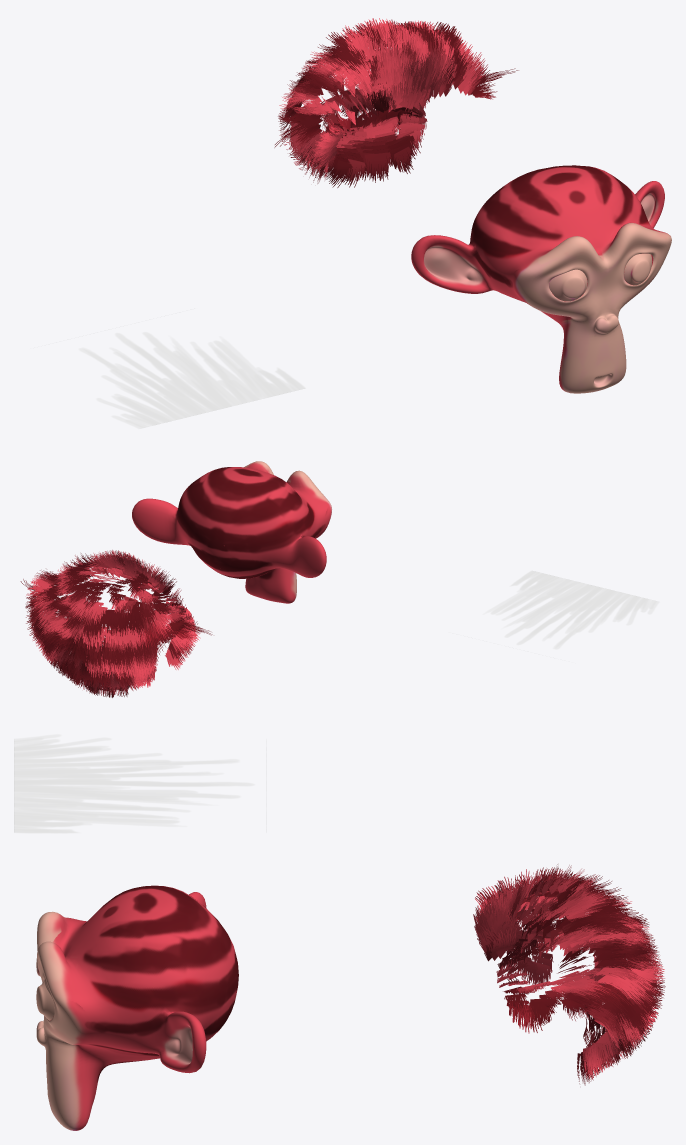
Rendered from hair_mesh_test.glb.
3 views of the same model, one above another, from view 1: azimuth 30°, elevation 25°; view 2: azimuth 150°, elevation 25°; view 3: azimuth 270°, elevation 25° (orthographic). The views are drawn at different scales.
Parts seen in each view (by area): view 1: Suzanne, Cube, Plane; view 2: Cube, Suzanne, Plane; view 3: Suzanne, Cube, Plane.
Boxes of the visible parts, bbox=[...] form: Suzanne: bbox=[411, 165, 671, 393]; Cube: bbox=[274, 18, 518, 187]; Plane: bbox=[78, 332, 305, 428]; Cube: bbox=[20, 550, 212, 697]; Suzanne: bbox=[132, 461, 331, 603]; Plane: bbox=[483, 570, 659, 649]; Suzanne: bbox=[36, 885, 238, 1130]; Cube: bbox=[473, 864, 665, 1085]; Plane: bbox=[14, 734, 254, 833].
Size of the model in its own units: 6.63 by 2.16 by 5.2.
3 materials, 3 textured.
